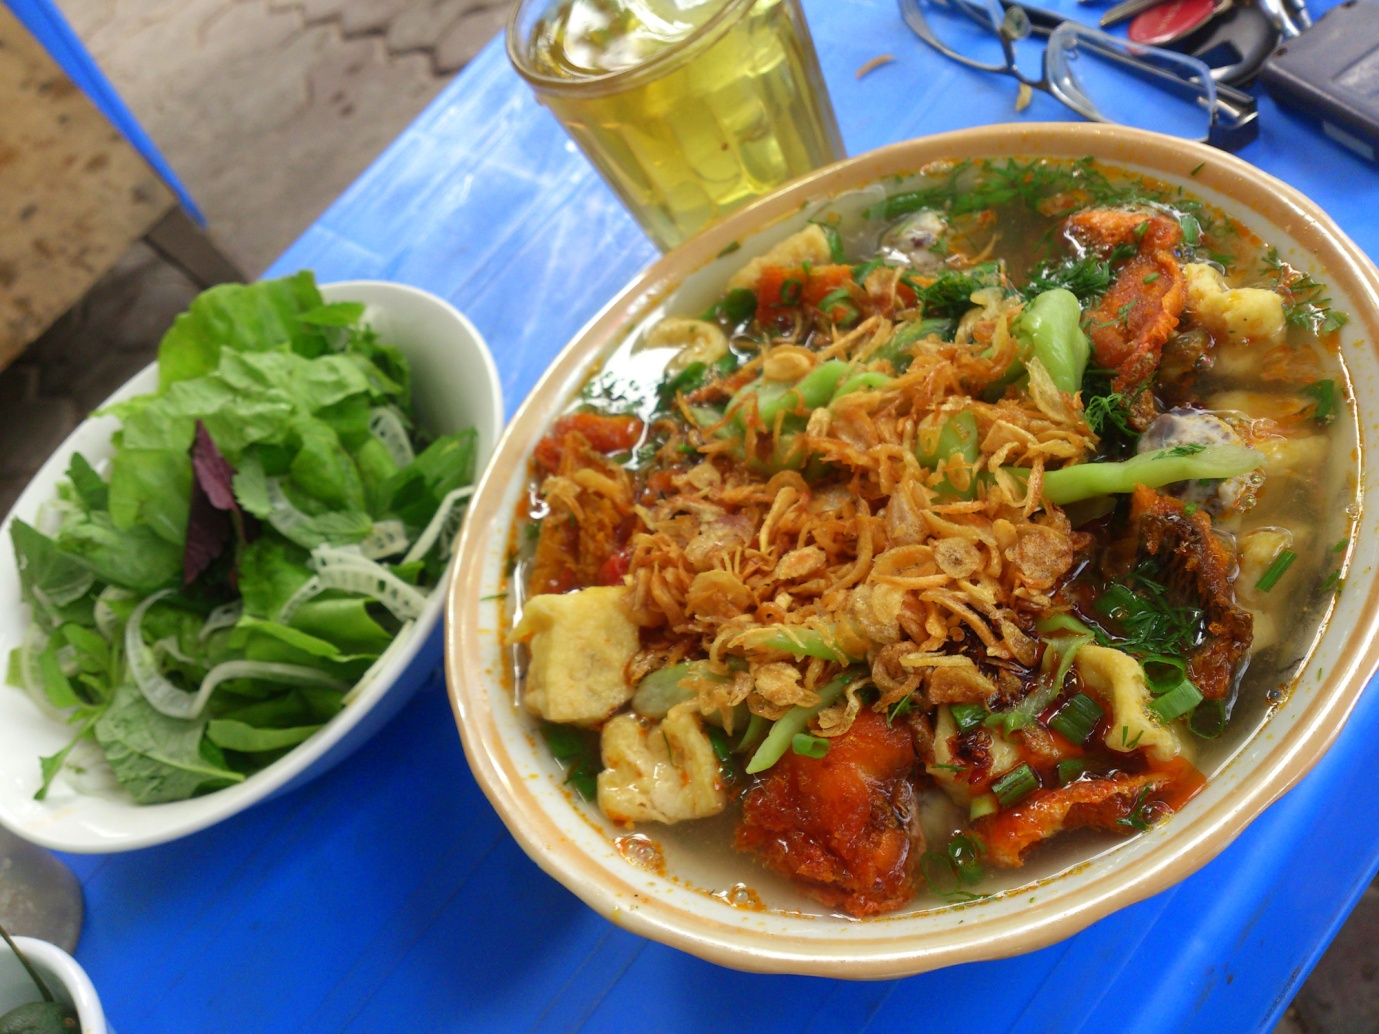tofu: (522, 592, 660, 726), (594, 706, 729, 828)
